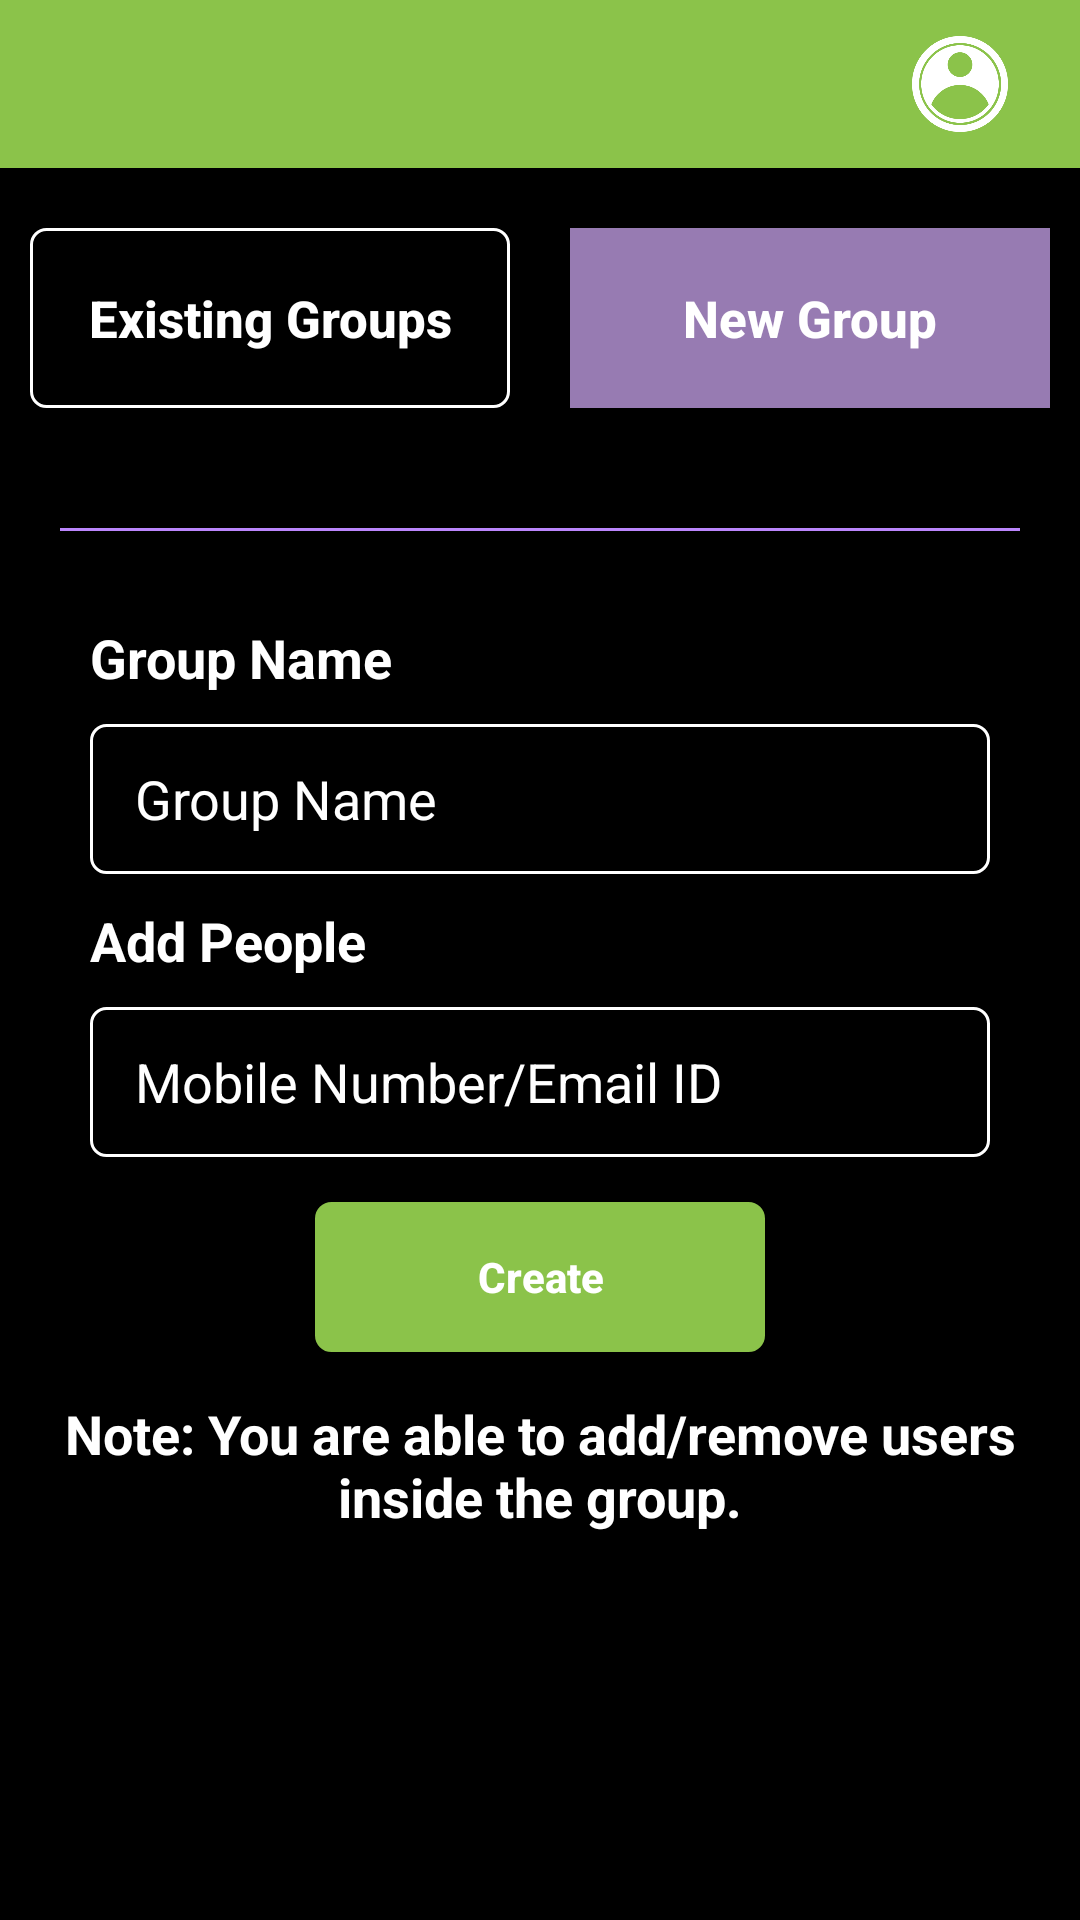

Point at icon controls on the screen. Image size 1080*1920, points as (x,y).
userima: (960,84)
